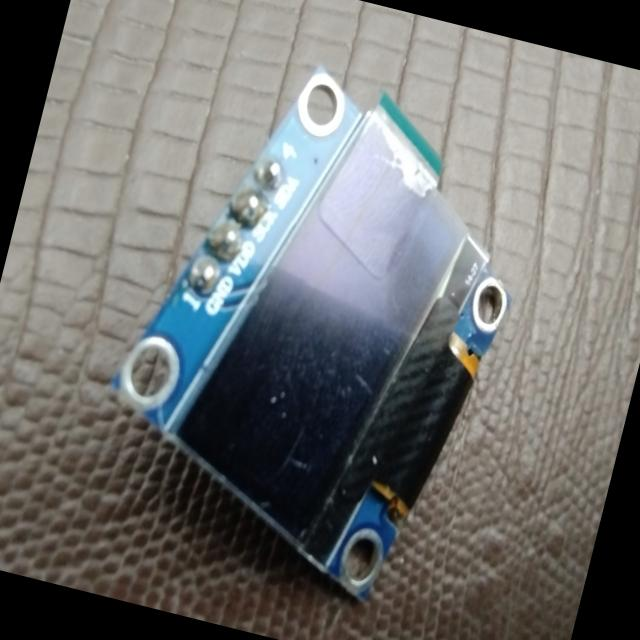oled: (64, 18, 568, 636)
